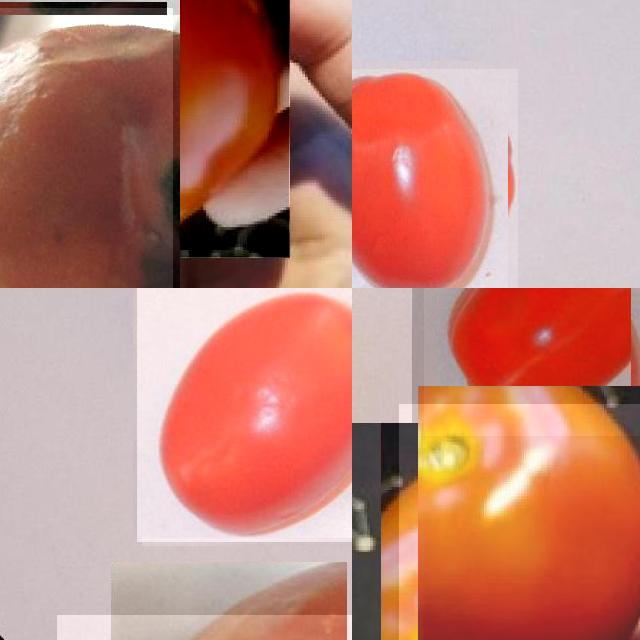Fresh Tomato: (399, 404, 640, 640), (137, 288, 352, 542), (352, 69, 518, 288), (423, 288, 640, 435), (180, 0, 289, 257)
Rotten Tomato: (0, 8, 173, 288)
